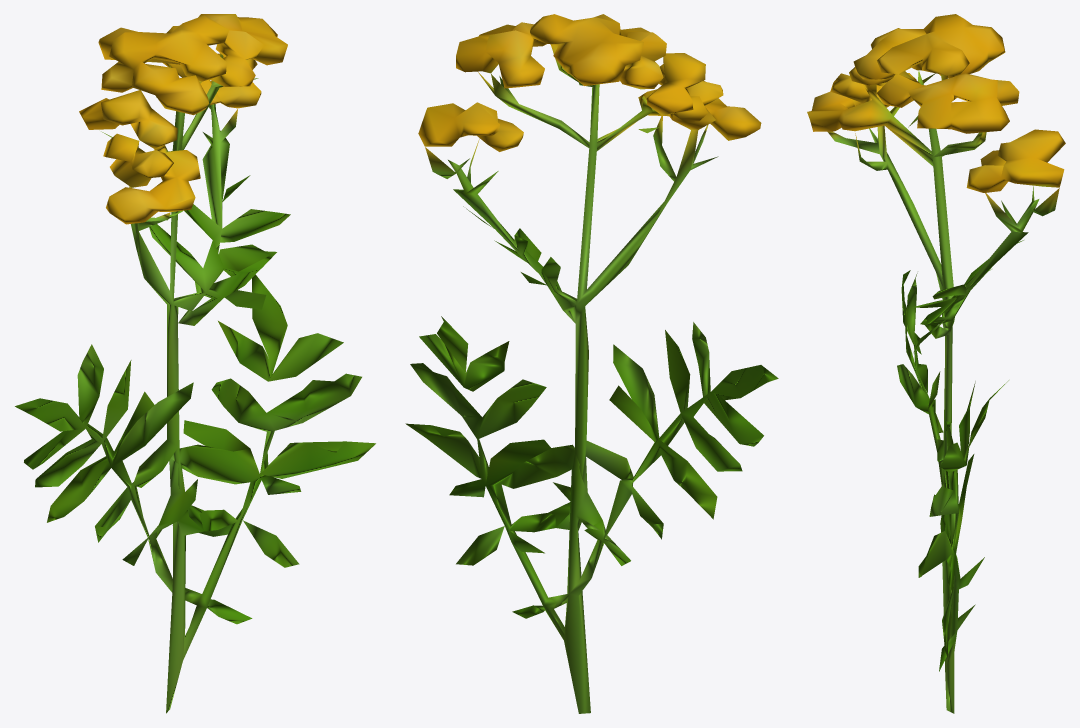
File: field_flower_3.glb
3 renders of one model, left to right at view 1: azimuth 30°, elevation 25°; view 2: azimuth 150°, elevation 25°; view 3: azimuth 270°, elevation 25°, orthographic.
Bounding box in the file's own units: 1.06 × 1.89 × 0.6536.
